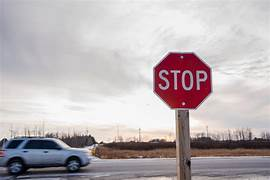stop: (152, 52, 213, 111)
